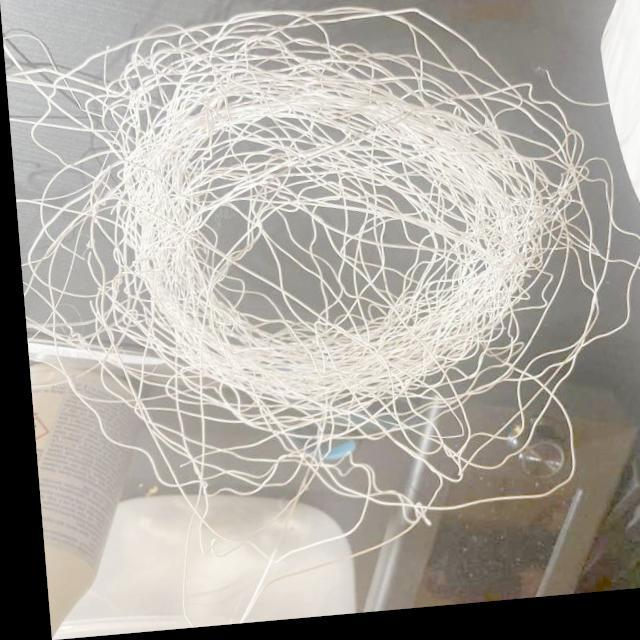spaghetti: (342, 101, 633, 352), (261, 341, 571, 492), (120, 279, 280, 503), (159, 3, 446, 123), (38, 110, 192, 302), (189, 82, 336, 238), (48, 302, 127, 412)
